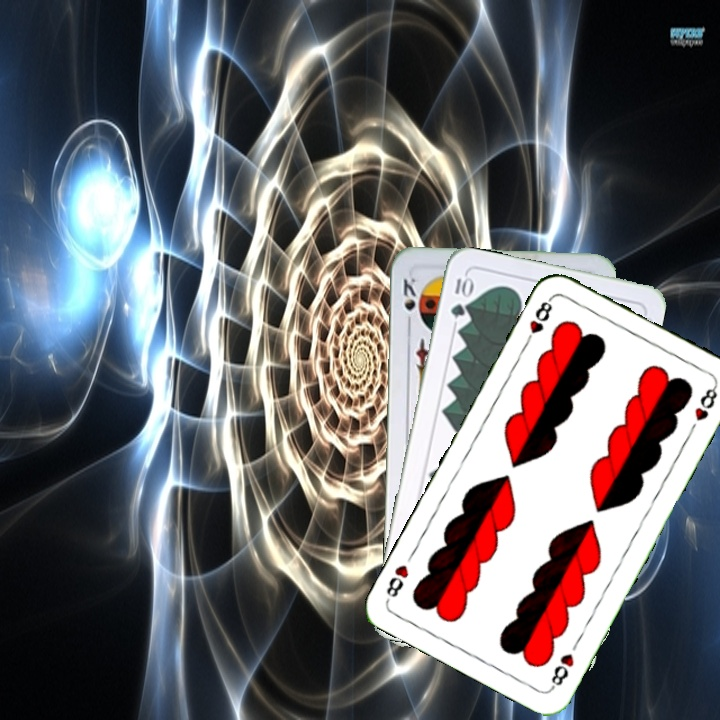G10: (446, 271, 474, 320)
H8: (520, 293, 555, 349), (547, 649, 577, 692)
SK: (399, 273, 419, 330)
